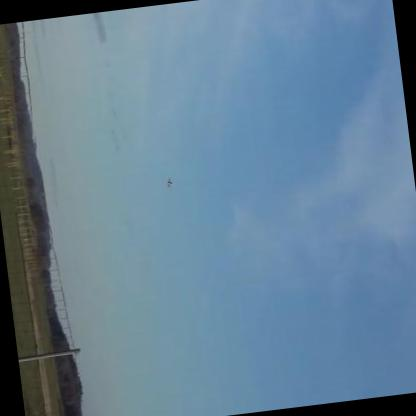plane: (165, 177, 175, 190)
